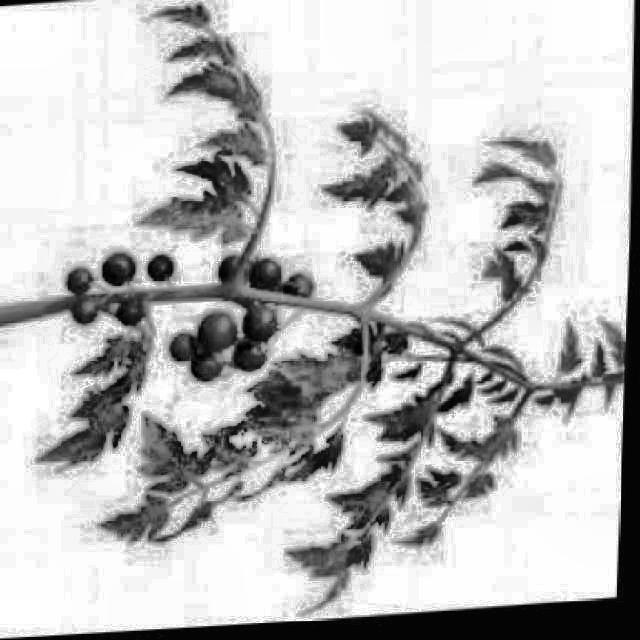plants: (15, 8, 637, 637)
